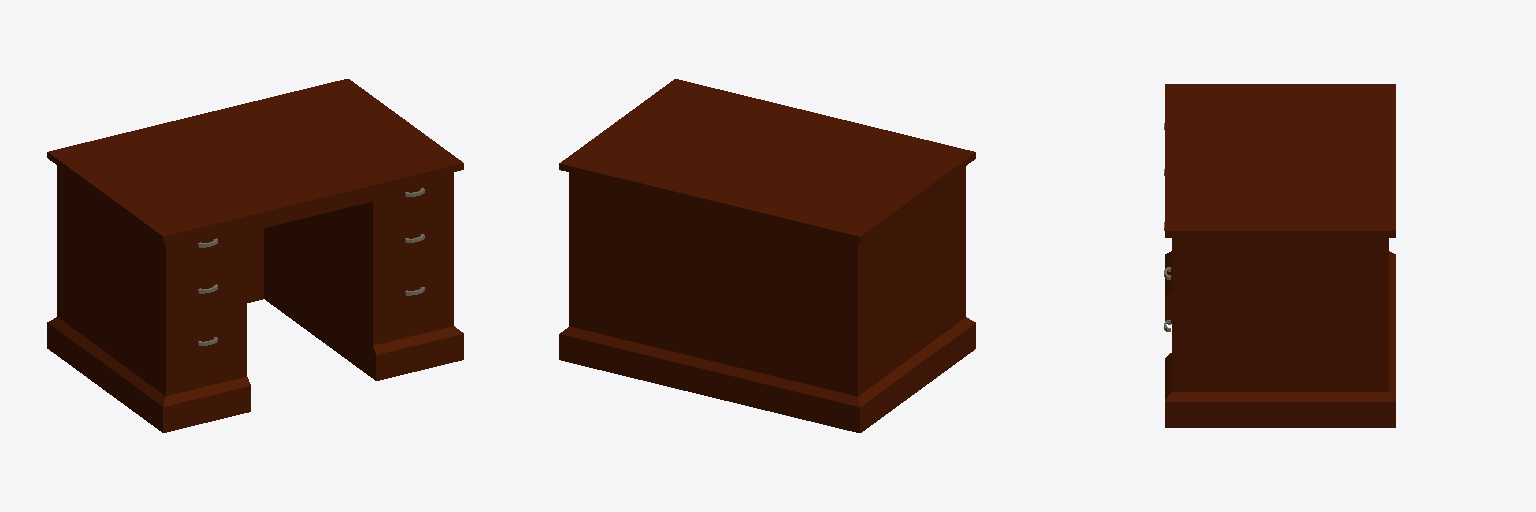
Rendered from Table.obj.
3 views of the same model, side by side, from view 1: azimuth 30°, elevation 25°; view 2: azimuth 150°, elevation 25°; view 3: azimuth 270°, elevation 25° (orthographic).
Bounding box in the file's own units: 48 × 30 × 32.12.